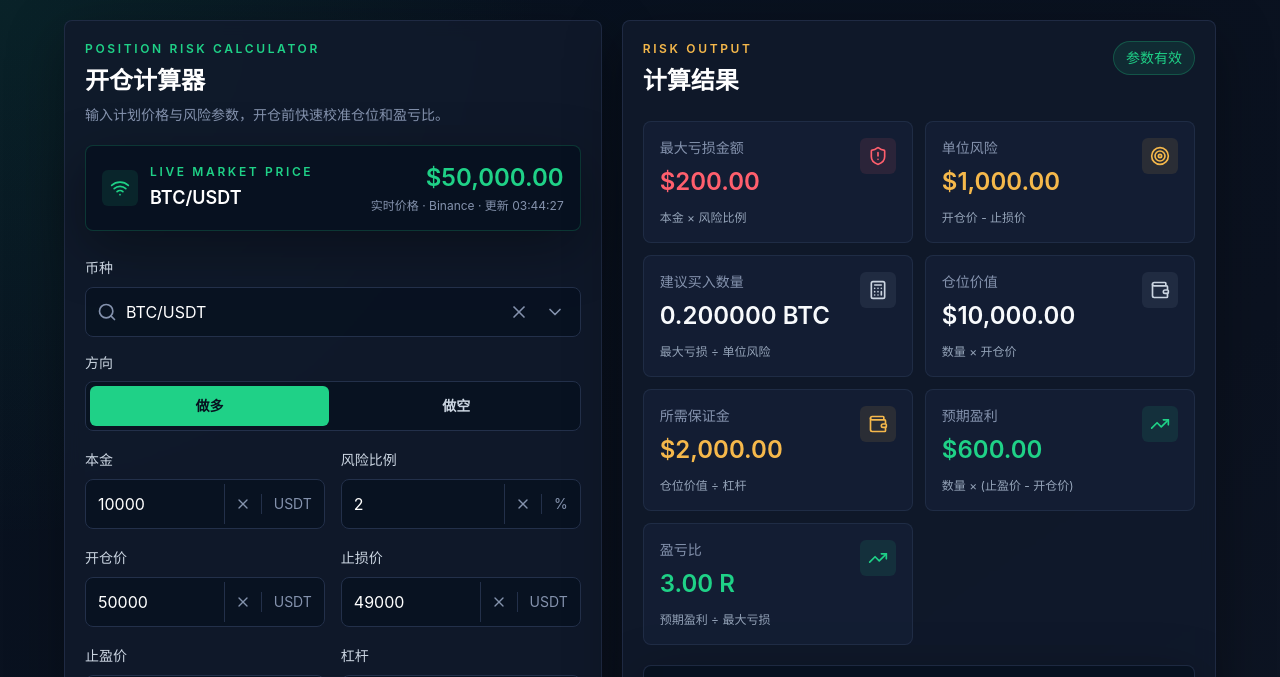
PositionCalculator › clears numeric calculator fields with one click
Expected: the text "$50,000.00" is shown, [426, 163, 564, 192]
Click the button named "清空本金" at [242, 504], box [224, 484, 261, 524]
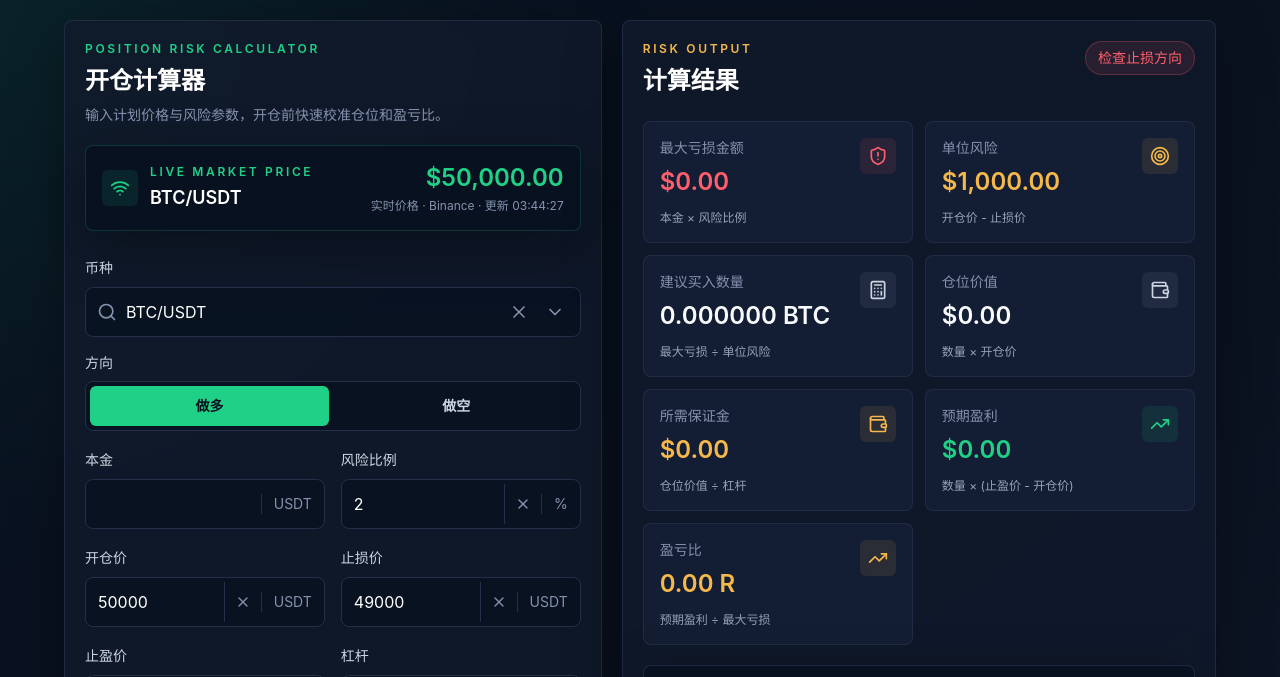
Expected: the number field labelled "本金" is not empty, [86, 480, 261, 528]
